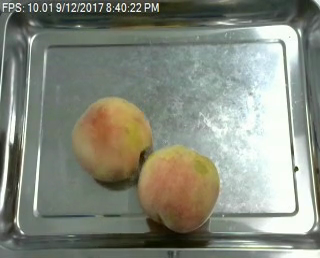Peach: (136, 144, 221, 232), (71, 96, 153, 184)
